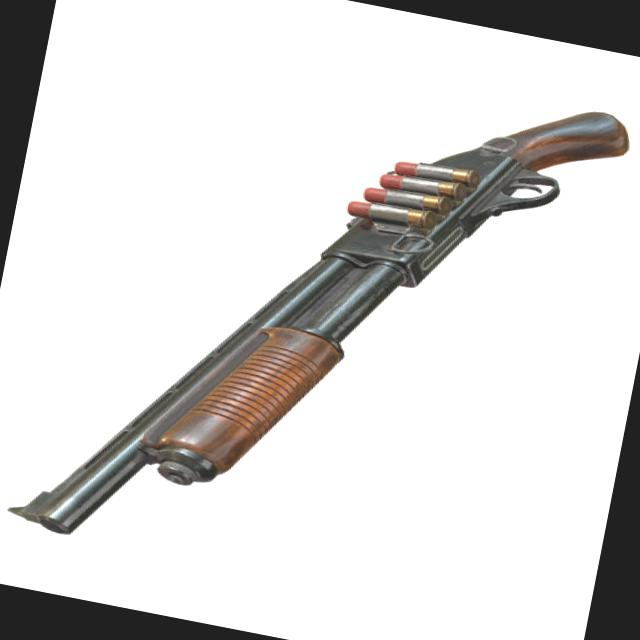long weapon: (0, 68, 640, 578)
